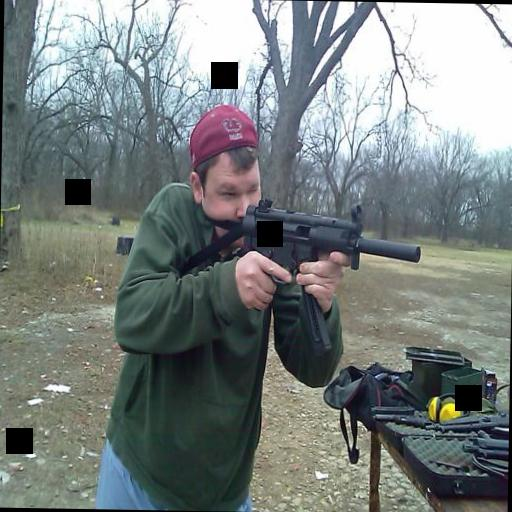Handgun: (240, 196, 419, 299)
